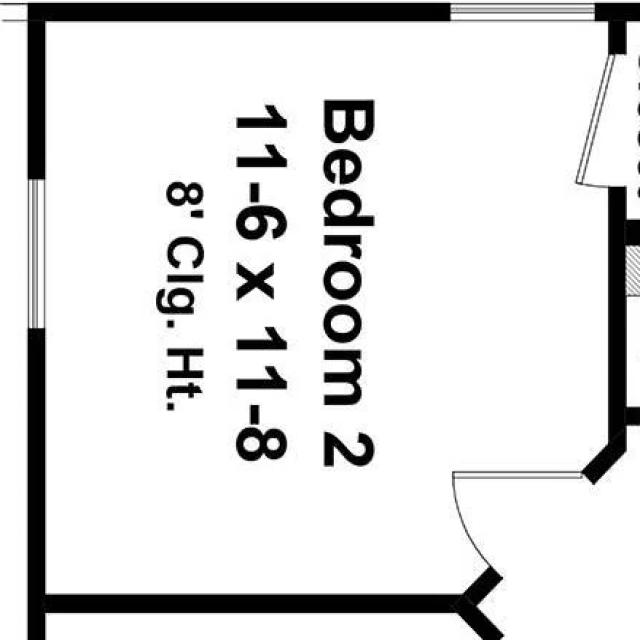Doors: (448, 467, 600, 584)
